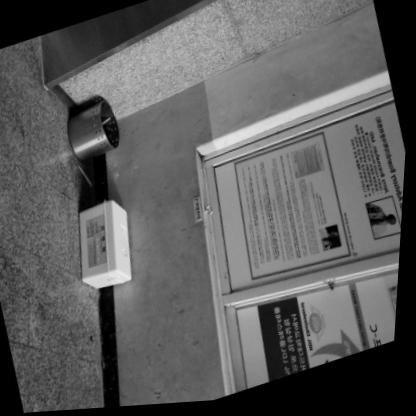DDL: (66, 194, 147, 296)
